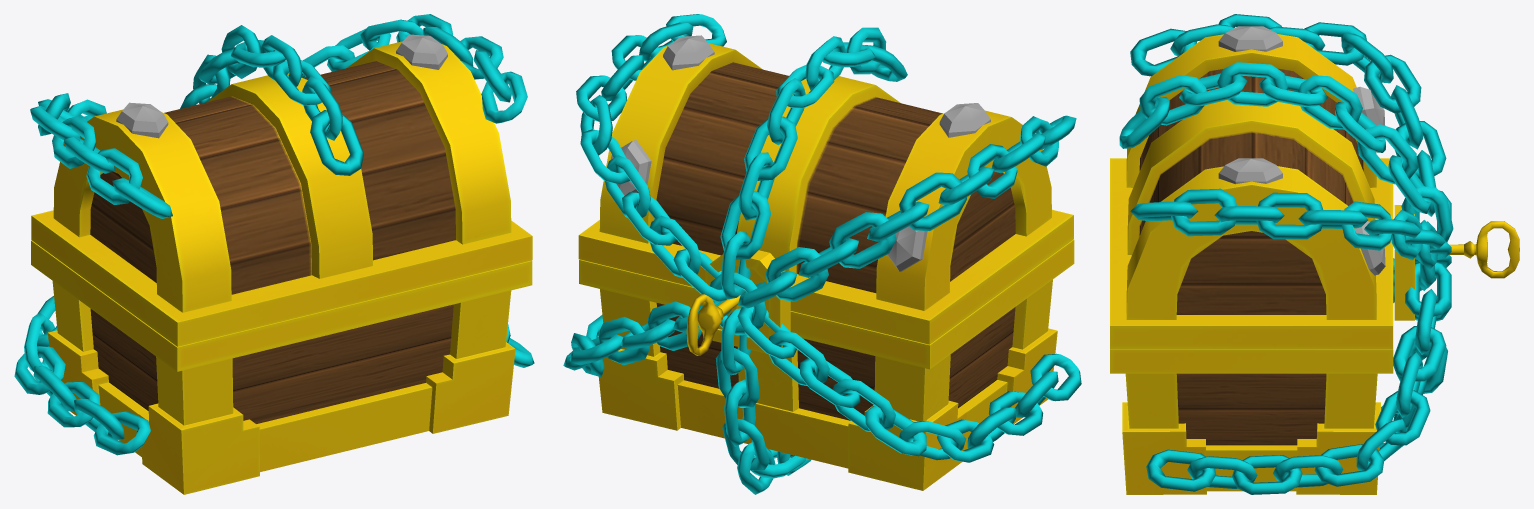
File: Chest_01.fbx
3 renders of one model, left to right at view 1: azimuth 30°, elevation 25°; view 2: azimuth 150°, elevation 25°; view 3: azimuth 270°, elevation 25°, orthographic. The views are drawn at different scales.
Visible parts, largest first — view 1: polySurface2, polySurface1, chain_03_pTorus3_pTorus3Shape, pTorus13Shape, pTorus11, pTorus20Shape; view 2: polySurface2, polySurface1, pTorus13Shape, pTorus20Shape, pTorus11, chain_03_pTorus3_pTorus3Shape, pTorus10Shape, pTorus12Shape, Key, pTorus1; view 3: polySurface2, polySurface1, pTorus12Shape, chain_03_pTorus3_pTorus3Shape, pTorus11, pTorus20Shape, Key, pTorus10Shape.
Boxes of the visible parts, box(x1,y1,x2,y2) form: polySurface2: box(31, 34, 532, 346); polySurface1: box(31, 240, 532, 494); chain_03_pTorus3_pTorus3Shape: box(180, 25, 363, 175); pTorus13Shape: box(14, 296, 150, 455); pTorus11: box(301, 14, 527, 123); pTorus20Shape: box(30, 93, 172, 218); polySurface2: box(578, 35, 1073, 353); polySurface1: box(579, 239, 1074, 490); pTorus13Shape: box(737, 306, 1081, 462); pTorus20Shape: box(737, 115, 1076, 308); pTorus11: box(576, 14, 726, 301); chain_03_pTorus3_pTorus3Shape: box(720, 27, 907, 299); pTorus10Shape: box(715, 308, 811, 494); pTorus12Shape: box(563, 300, 731, 377); Key: box(686, 294, 738, 355); pTorus1: box(710, 272, 766, 335); polySurface2: box(1110, 26, 1414, 349); polySurface1: box(1110, 184, 1393, 494); pTorus12Shape: box(1146, 262, 1451, 494); chain_03_pTorus3_pTorus3Shape: box(1119, 62, 1453, 242); pTorus11: box(1130, 188, 1451, 270); pTorus20Shape: box(1130, 14, 1451, 230); Key: box(1449, 221, 1519, 278); pTorus10Shape: box(1380, 276, 1451, 454).
Bounding box in the file's own units: 337 × 309 × 287.
Materials: 3 (1 with a texture image).
